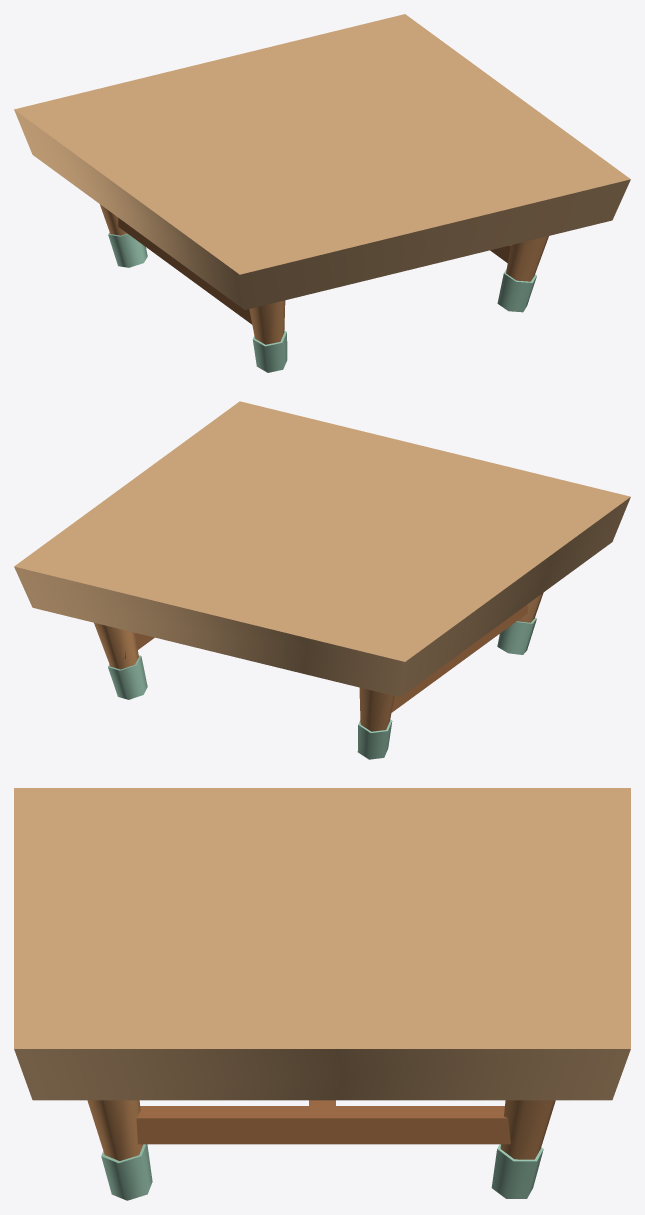
File: Masa 1.fbx
3 views of the same model, one above another, from view 1: azimuth 30°, elevation 25°; view 2: azimuth 150°, elevation 25°; view 3: azimuth 270°, elevation 25° (orthographic). The views are drawn at different scales.
Visible parts, largest first — view 1: top_slab, stretcher_left, leg_xz, leg_Xz, foot_xz, foot_Xz, foot_XZ; view 2: top_slab, stretcher_left, leg_xZ, leg_XZ, foot_xZ, foot_Xz, foot_XZ; view 3: top_slab, stretcher_right, leg_xz, leg_xZ, foot_xz, foot_xZ.
Boxes of the visible parts, x1,y1,x2,y2 form: top_slab: [14, 14, 630, 309]; stretcher_left: [118, 218, 282, 329]; leg_xz: [506, 236, 548, 281]; leg_Xz: [249, 300, 285, 344]; foot_xz: [497, 268, 536, 312]; foot_Xz: [252, 330, 287, 372]; foot_XZ: [108, 232, 147, 267]; top_slab: [14, 401, 630, 697]; stretcher_left: [379, 605, 527, 721]; leg_xZ: [94, 623, 138, 669]; leg_XZ: [359, 687, 394, 731]; foot_xZ: [108, 655, 147, 699]; foot_Xz: [497, 617, 536, 654]; foot_XZ: [357, 719, 392, 759]; top_slab: [14, 788, 630, 1100]; stretcher_right: [107, 1106, 510, 1144]; leg_xz: [87, 1100, 143, 1160]; leg_xZ: [500, 1100, 555, 1159]; foot_xz: [101, 1144, 152, 1200]; foot_xZ: [491, 1144, 543, 1198].
Bounding box in the file's own units: 64.35 × 22.33 × 64.35.
